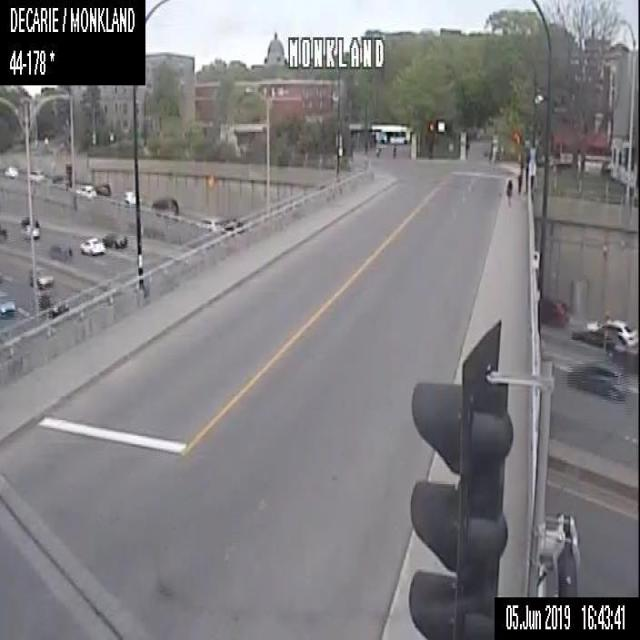bus: (370, 123, 410, 144)
pedestrian: (505, 179, 511, 205)
vehicle: (562, 355, 624, 400), (582, 315, 639, 349), (33, 292, 71, 320), (539, 297, 567, 327), (150, 192, 179, 215), (46, 240, 73, 264), (29, 266, 54, 288), (79, 236, 104, 256), (199, 214, 223, 234), (19, 214, 39, 238), (0, 294, 15, 320), (102, 232, 127, 246), (76, 182, 94, 198), (119, 188, 136, 204), (1, 163, 19, 177), (29, 168, 45, 181), (94, 182, 110, 194), (0, 222, 8, 242)
